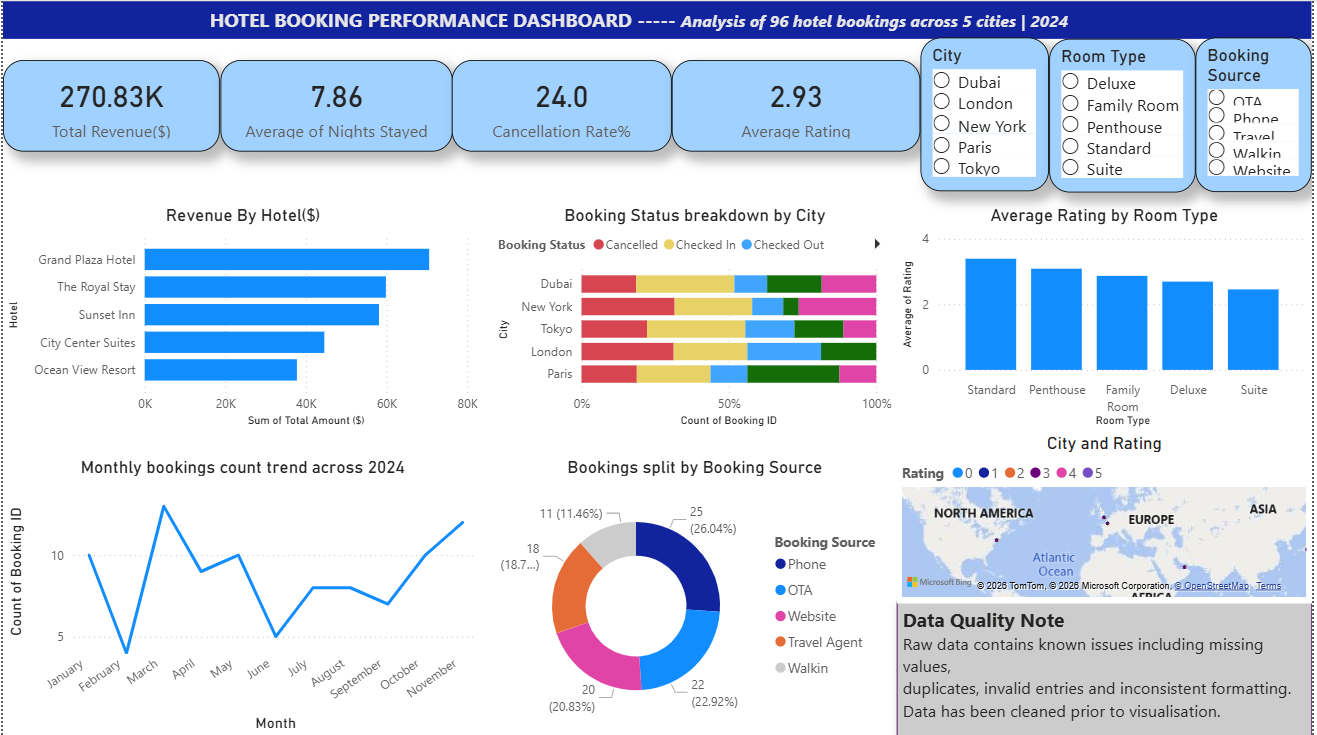

What the dashboard file says about the page in this screenshot:
{"tool":"powerbi","page":{"name":"hotel-booking-performance-dashboard","canvas":[1280,720],"ordinal":0},"visuals":[{"type":"card","fields":{"Values":["Sum(Hotel_Booking_Data.Total Amount ($))"]},"box":[0,58.1,212.3,89.2],"z":0},{"type":"card","fields":{"Values":["Avg(Hotel_Booking_Data.Nights)"]},"box":[212.3,58.1,227.1,89.2],"z":1000},{"type":"card","fields":{"Values":["Hotel_Booking_Data.Cancellation Rate"]},"box":[439.4,58.1,215,89.2],"z":2000},{"type":"card","fields":{"Values":["Avg(Hotel_Booking_Data.Rating)"]},"box":[654.3,58.1,243.3,89.2],"z":2001},{"type":"clusteredBarChart","title":"Revenue By Hotel($)","fields":{"Category":["Hotel_Booking_Data.Hotel"],"Y":["Sum(Hotel_Booking_Data.Total Amount ($))"]},"box":[0,200.3,469.3,222.3],"z":2002},{"type":"lineChart","title":"Monthly bookings count trend across 2024","fields":{"Category":["Hotel_Booking_Data.Checkin Date.Variation.Date Hierarchy.Month"],"Y":["CountNonNull(Hotel_Booking_Data.Booking ID)"]},"box":[0,446,469.3,274.4],"z":2003},{"type":"hundredPercentStackedBarChart","title":"Booking Status breakdown by City","fields":{"Category":["Hotel_Booking_Data.City"],"Y":["CountNonNull(Hotel_Booking_Data.Booking ID)"],"Series":["Hotel_Booking_Data.Booking Status"]},"box":[478.9,200.3,395.2,222.3],"z":2004},{"type":"donutChart","title":"Bookings split by Booking Source","fields":{"Category":["Hotel_Booking_Data.Booking Source"],"Y":["CountNonNull(Hotel_Booking_Data.Booking ID)"]},"box":[478.9,446,395.2,274.4],"z":2005},{"type":"columnChart","title":"Average Rating by Room Type","fields":{"Y":["Avg(Hotel_Booking_Data.Rating)"],"Category":["Hotel_Booking_Data.Room Type"]},"box":[874.1,200.3,406.2,222.3],"z":2006},{"type":"textbox","box":[874.1,588.7,406.2,131.7],"z":2007},{"type":"map","fields":{"Category":["Hotel_Booking_Data.City"],"Series":["Hotel_Booking_Data.Rating"]},"box":[874.1,422.6,406.2,166],"z":2008},{"type":"textbox","box":[0,1.4,1280.3,37],"z":2009},{"type":"listSlicer","fields":{"Values":["Hotel_Booking_Data.City"]},"box":[897.7,36.5,125.7,150.1],"z":2010},{"type":"listSlicer","fields":{"Values":["Hotel_Booking_Data.Room Type"]},"box":[1023.4,37.9,143.3,150.1],"z":2011},{"type":"listSlicer","fields":{"Values":["Hotel_Booking_Data.Booking Source"]},"box":[1166.7,36.5,113.6,151.4],"z":2012}]}

Visuals, with their boxes in screenshot pixels (x1, y1, x2, y2), scaled from the page's 1280x720 canvas onto the 1317x735 screenshot:
card - Sum(Hotel_Booking_Data.Total Amount ($)): rect(0, 59, 218, 150)
card - Avg(Hotel_Booking_Data.Nights): rect(218, 59, 452, 150)
card - Hotel_Booking_Data.Cancellation Rate: rect(452, 59, 673, 150)
card - Avg(Hotel_Booking_Data.Rating): rect(673, 59, 924, 150)
"Revenue By Hotel($)" clusteredBarChart: rect(0, 204, 483, 431)
"Monthly bookings count trend across 2024" lineChart: rect(0, 455, 483, 734)
"Booking Status breakdown by City" hundredPercentStackedBarChart: rect(493, 204, 899, 431)
"Bookings split by Booking Source" donutChart: rect(493, 455, 899, 734)
"Average Rating by Room Type" columnChart: rect(899, 204, 1316, 431)
textbox: rect(899, 601, 1316, 734)
map - Hotel_Booking_Data.City x Hotel_Booking_Data.Rating: rect(899, 431, 1316, 601)
textbox: rect(0, 1, 1316, 39)
listSlicer - Hotel_Booking_Data.City: rect(924, 37, 1053, 190)
listSlicer - Hotel_Booking_Data.Room Type: rect(1053, 39, 1200, 192)
listSlicer - Hotel_Booking_Data.Booking Source: rect(1200, 37, 1316, 192)
